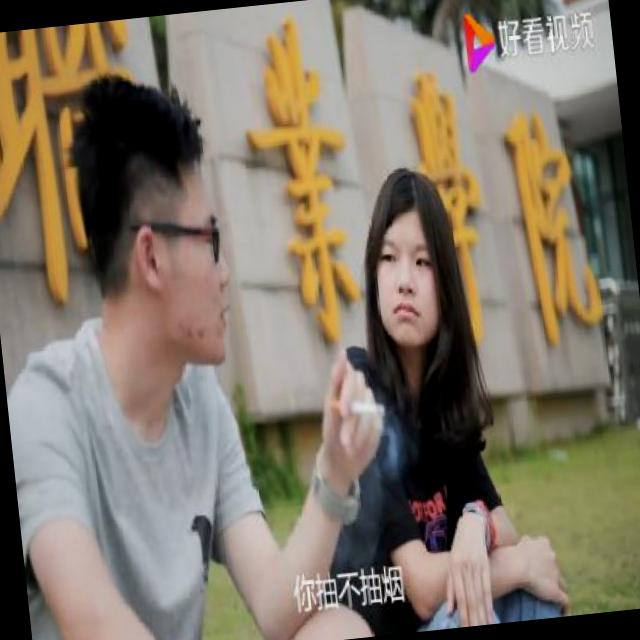cigarette: (319, 375, 390, 434)
